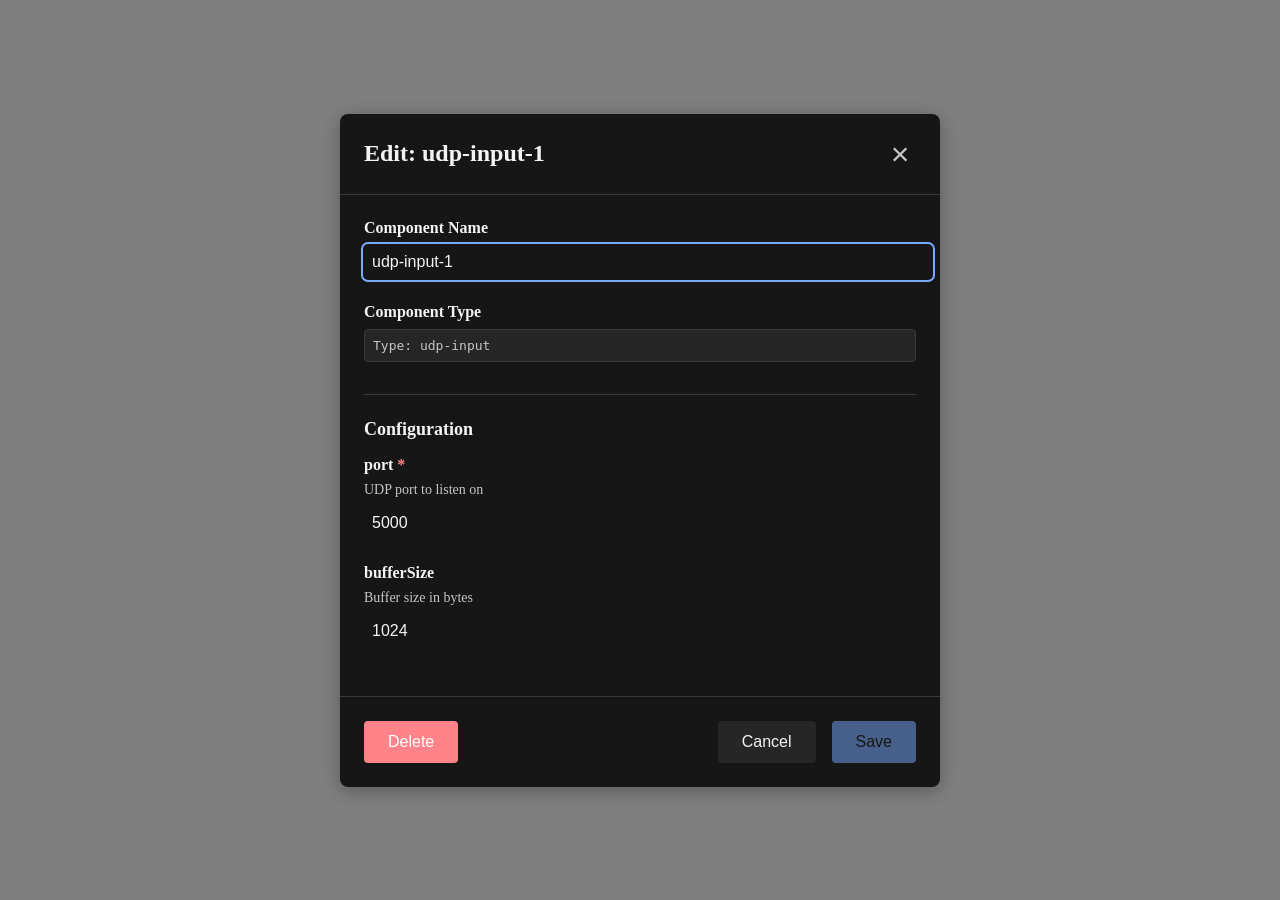
Test: EditComponentModal › Form Validation › should enable Save button when changes made
// Make a change
Replace the text in the field named "name" with "new-name" at [648, 262], box [364,244,932,278]
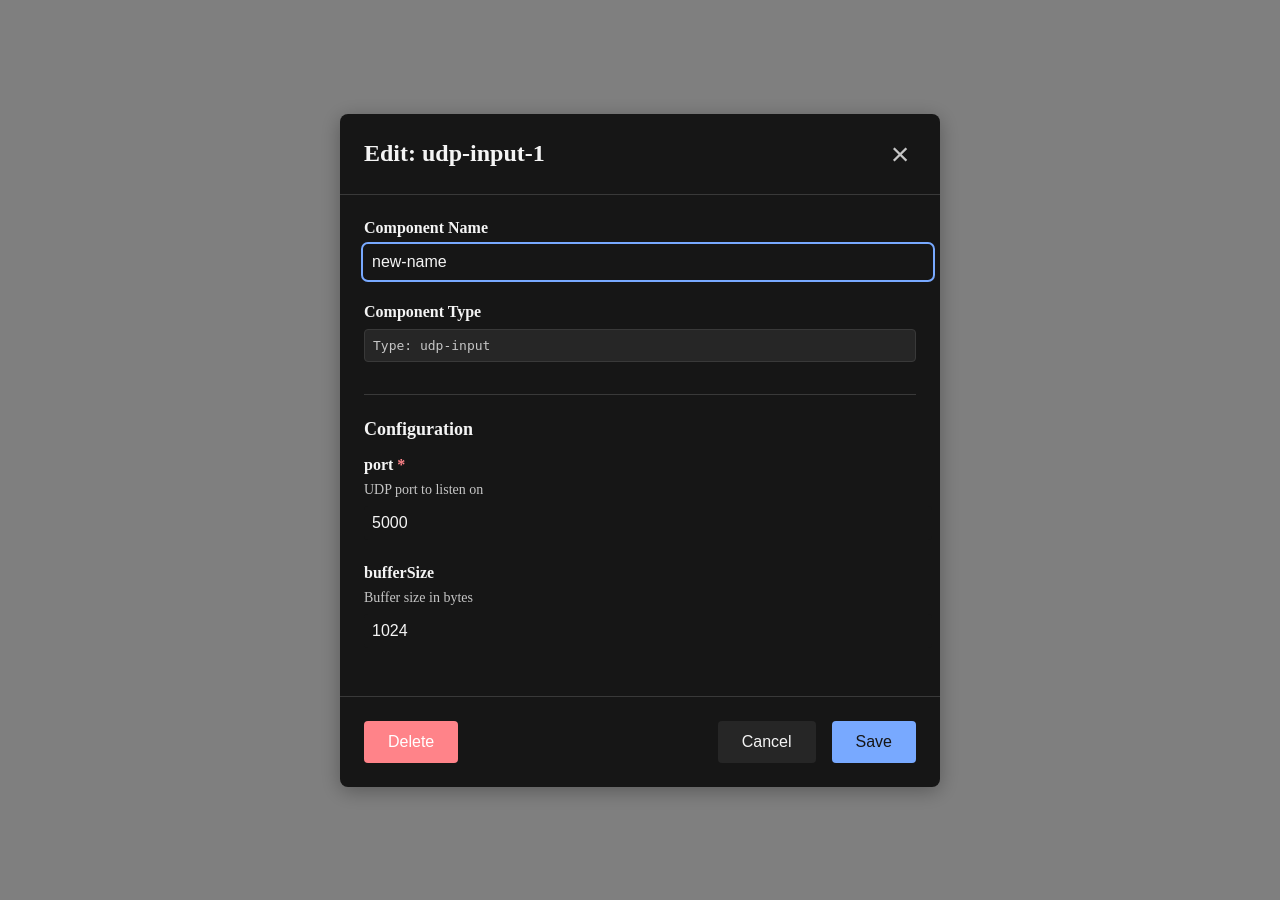
Expected: the button "Save" is enabled, [832,720,916,762]
